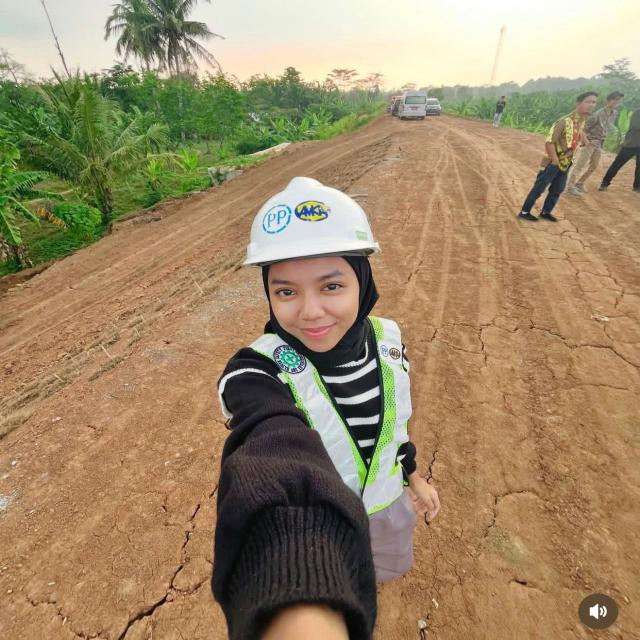safetyhelmet: (242, 168, 389, 364)
